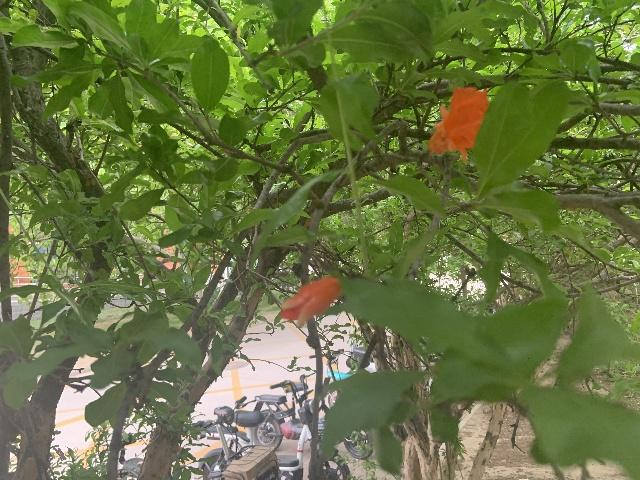flower: (427, 86, 488, 163), (279, 276, 342, 326)
